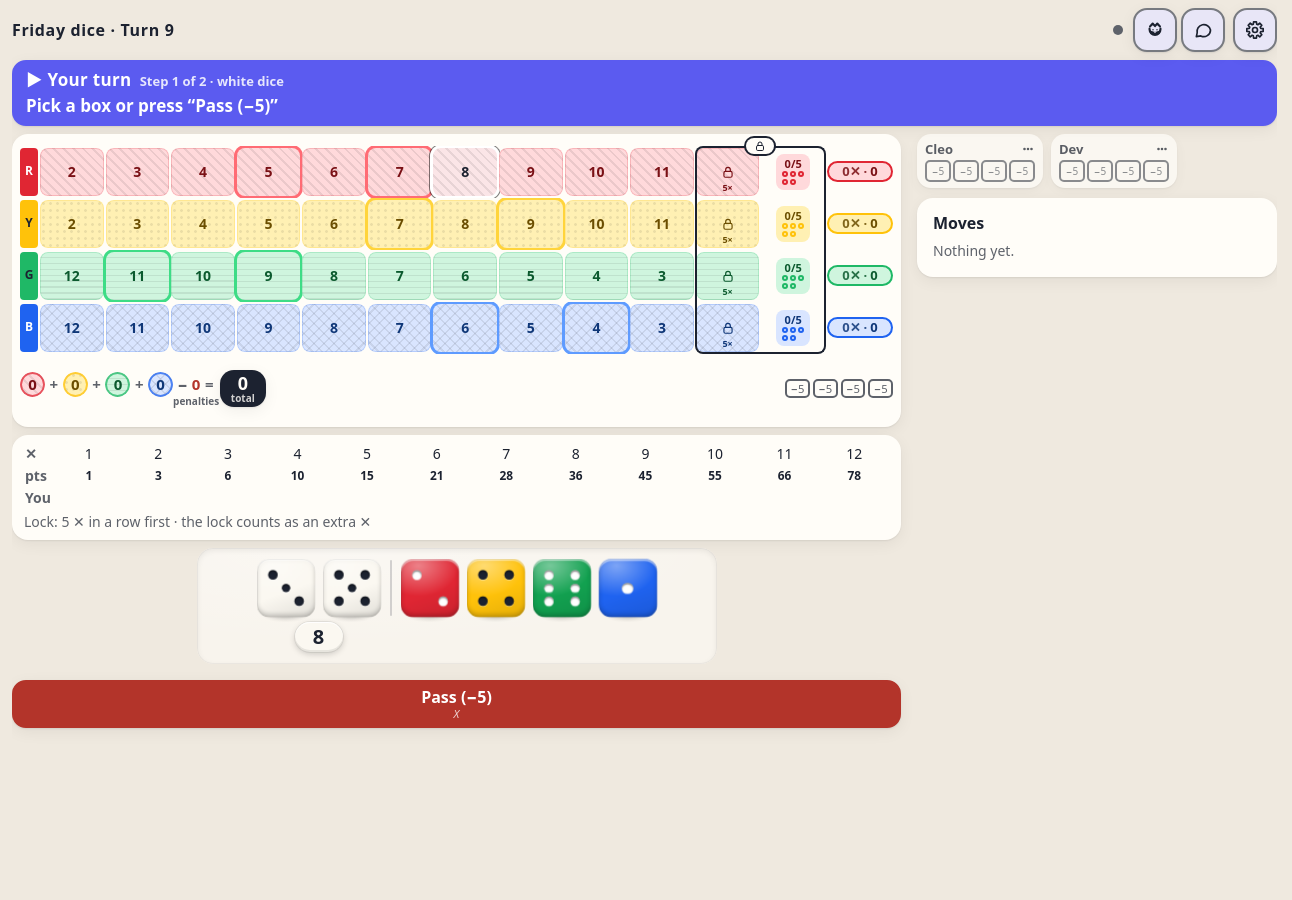
Test: step number markers (T-NEW-14) › active step 1 shows 1, then both staged show 1 and 2
Click the button named "Red 8, can mark" at coordinates (465, 172), box [434, 148, 497, 196]
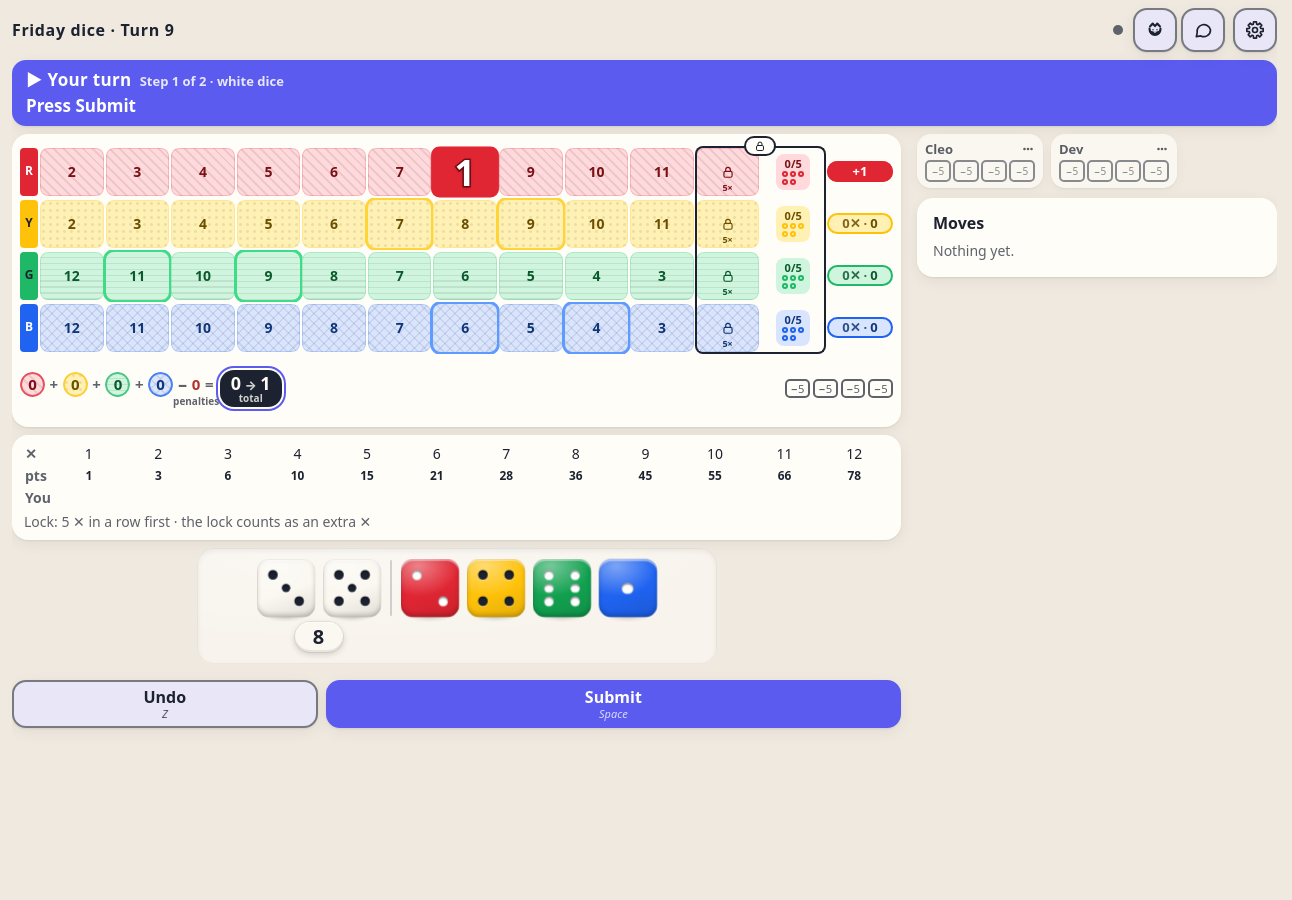
Click the button named "Green 11, can mark" at coordinates (137, 276), box [106, 252, 169, 300]
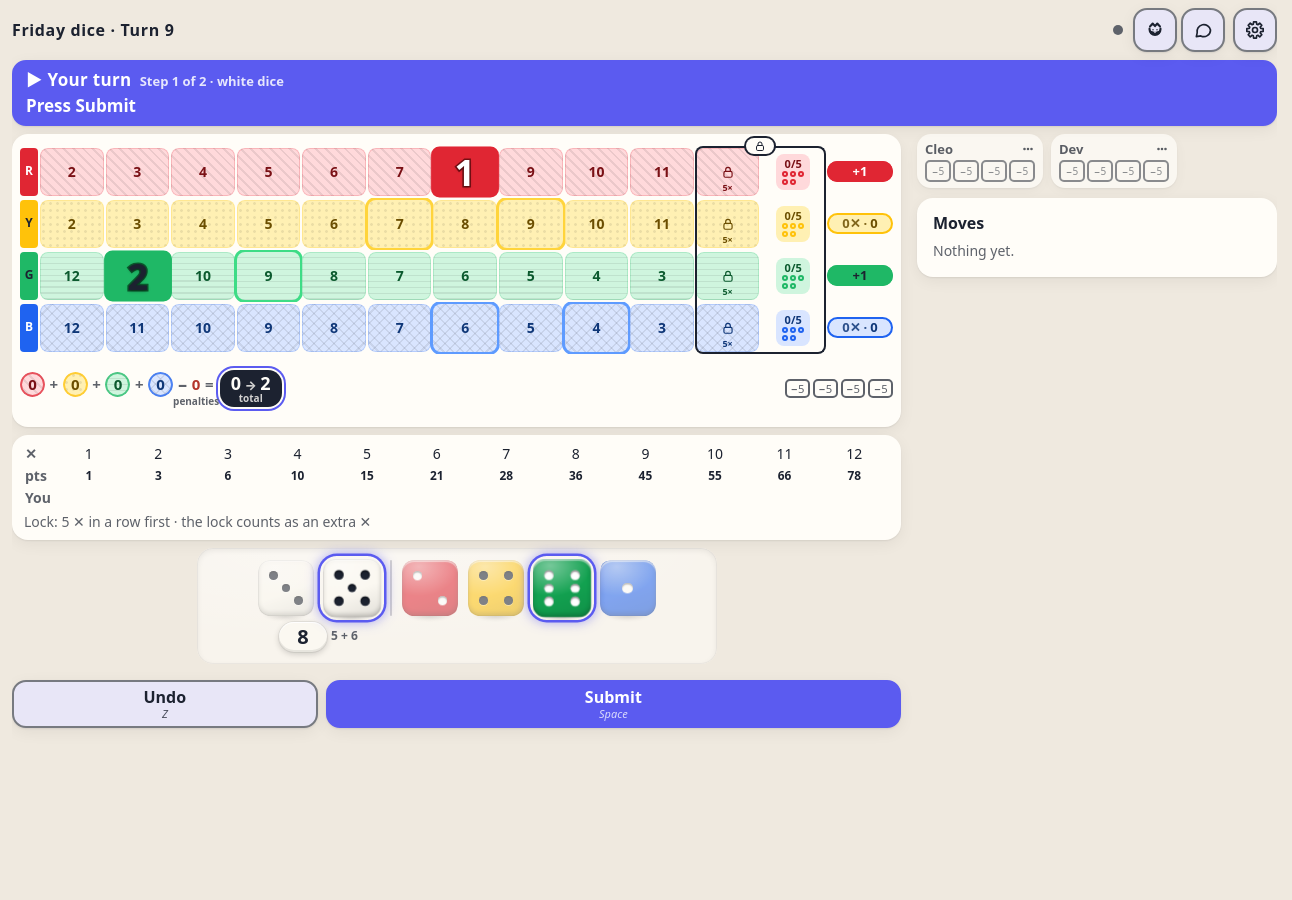
Now the button named "Green 11, can mark, step 2" is shown, box [104, 250, 171, 301]
